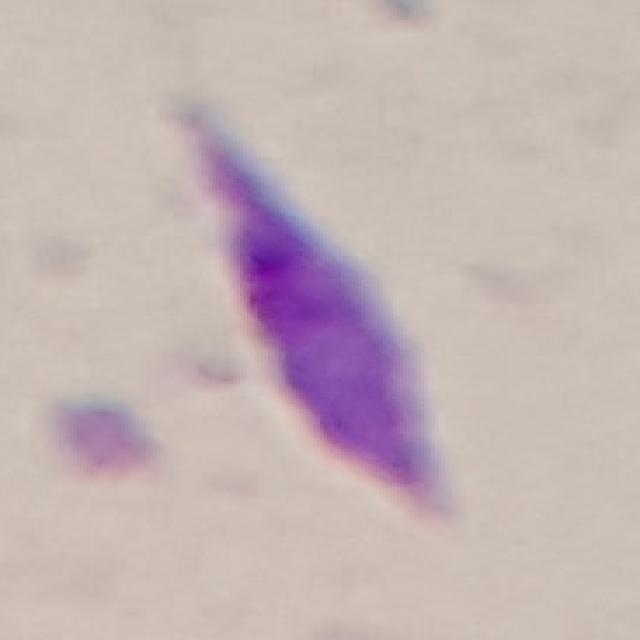non-sperm: (191, 116, 458, 521)
